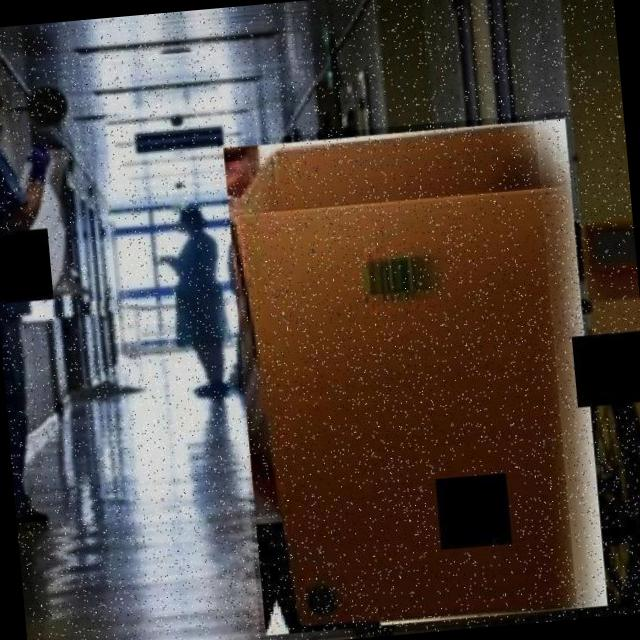box: (216, 111, 613, 640)
